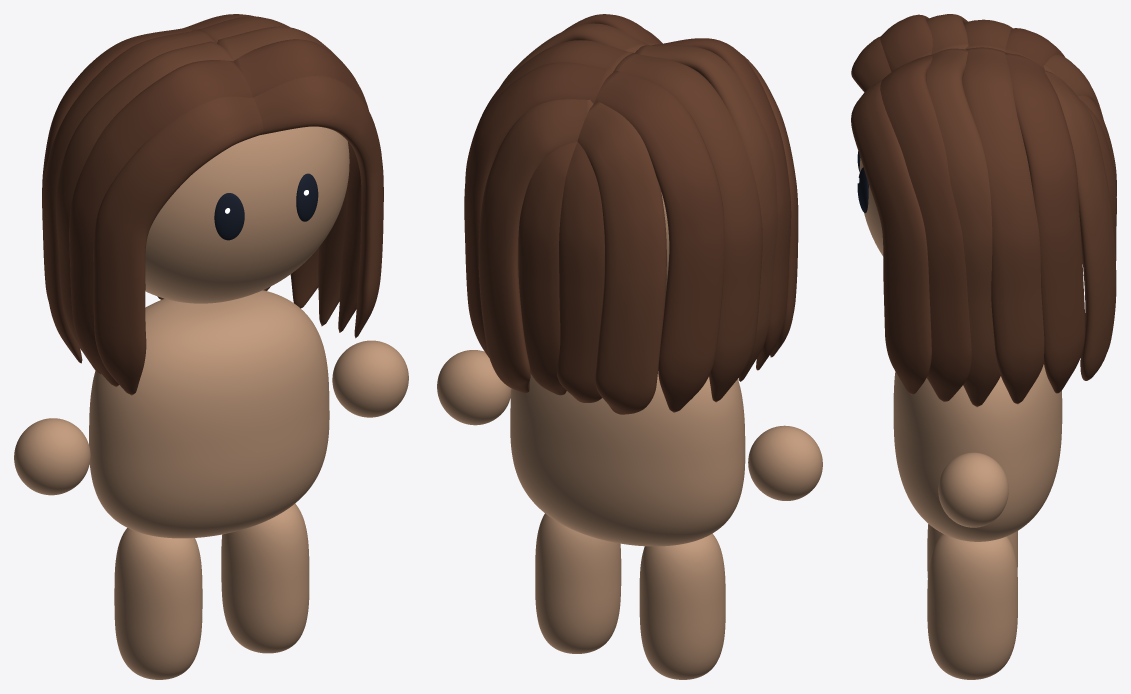
The model's file is Feminine-skin2.glb.
3 renders of one model, left to right at view 1: azimuth 30°, elevation 25°; view 2: azimuth 150°, elevation 25°; view 3: azimuth 270°, elevation 25°, orthographic. The views are drawn at different scales.
Parts seen in each view (by area): view 1: Skin / compact torso with skirt outline, Skin / soft oval head, Hair / Straight -1 0, Hair / Straight -1 1, Skin / leg -1, Skin / leg 1, Hair / Straight 1 0, Hair / Straight 1 1, Hair / Straight -1 2, Hair / Straight -1 3, Skin / hand 1, Skin / hand -1 (+5 smaller); view 2: Skin / compact torso with skirt outline, Hair / Straight -1 4, Hair / Straight -1 5, Hair / Straight -1 3, Hair / Straight 1 5, Skin / leg -1, Hair / Straight -1 6, Skin / leg 1, Hair / Straight 1 6, Hair / Straight 1 4, Hair / Straight -1 2, Hair / Straight -1 1 (+6 smaller); view 3: Skin / compact torso with skirt outline, Hair / Straight 1 3, Hair / Straight 1 4, Hair / Straight 1 1, Hair / Straight 1 0, Skin / leg 1, Hair / Straight 1 2, Hair / Straight 1 5, Skin / hand 1, Hair / Straight -1 1, Hair / Straight -1 0, Hair / Straight -1 4 (+7 smaller).
Boxes of the visible parts, bbox=[...] form: Skin / compact torso with skirt outline: bbox=[89, 290, 329, 538]; Skin / soft oval head: bbox=[145, 126, 349, 303]; Hair / Straight -1 0: bbox=[93, 96, 263, 395]; Hair / Straight -1 1: bbox=[69, 60, 252, 386]; Skin / leg -1: bbox=[114, 528, 202, 679]; Skin / leg 1: bbox=[221, 503, 309, 653]; Hair / Straight 1 0: bbox=[253, 75, 383, 338]; Hair / Straight 1 1: bbox=[233, 39, 368, 332]; Hair / Straight -1 2: bbox=[56, 41, 233, 374]; Hair / Straight -1 3: bbox=[42, 30, 214, 363]; Skin / hand 1: bbox=[332, 340, 408, 417]; Skin / hand -1: bbox=[14, 418, 90, 495]; Skin / compact torso with skirt outline: bbox=[510, 371, 745, 546]; Hair / Straight -1 4: bbox=[594, 71, 724, 412]; Hair / Straight -1 5: bbox=[577, 101, 666, 414]; Hair / Straight -1 3: bbox=[613, 53, 762, 402]; Hair / Straight 1 5: bbox=[478, 99, 593, 393]; Skin / leg -1: bbox=[639, 533, 725, 679]; Hair / Straight -1 6: bbox=[557, 142, 604, 402]; Skin / leg 1: bbox=[535, 513, 621, 653]; Hair / Straight 1 6: bbox=[518, 141, 577, 395]; Hair / Straight 1 4: bbox=[464, 62, 612, 357]; Hair / Straight -1 2: bbox=[635, 45, 777, 381]; Hair / Straight -1 1: bbox=[653, 38, 791, 370]; Skin / compact torso with skirt outline: bbox=[893, 364, 1062, 541]; Hair / Straight 1 3: bbox=[962, 47, 1044, 404]; Hair / Straight 1 4: bbox=[1005, 53, 1085, 393]; Hair / Straight 1 1: bbox=[880, 55, 971, 401]; Hair / Straight 1 0: bbox=[851, 79, 931, 394]; Skin / leg 1: bbox=[927, 534, 1017, 679]; Hair / Straight 1 2: bbox=[926, 48, 1000, 407]; Hair / Straight 1 5: bbox=[1044, 70, 1116, 380]; Skin / hand 1: bbox=[938, 452, 1008, 527]; Hair / Straight -1 1: bbox=[880, 14, 932, 71]; Hair / Straight -1 0: bbox=[851, 36, 891, 92]; Hair / Straight -1 4: bbox=[1005, 28, 1082, 263].
Size of the model in its own units: 1.49 by 2.31 by 0.9206.
